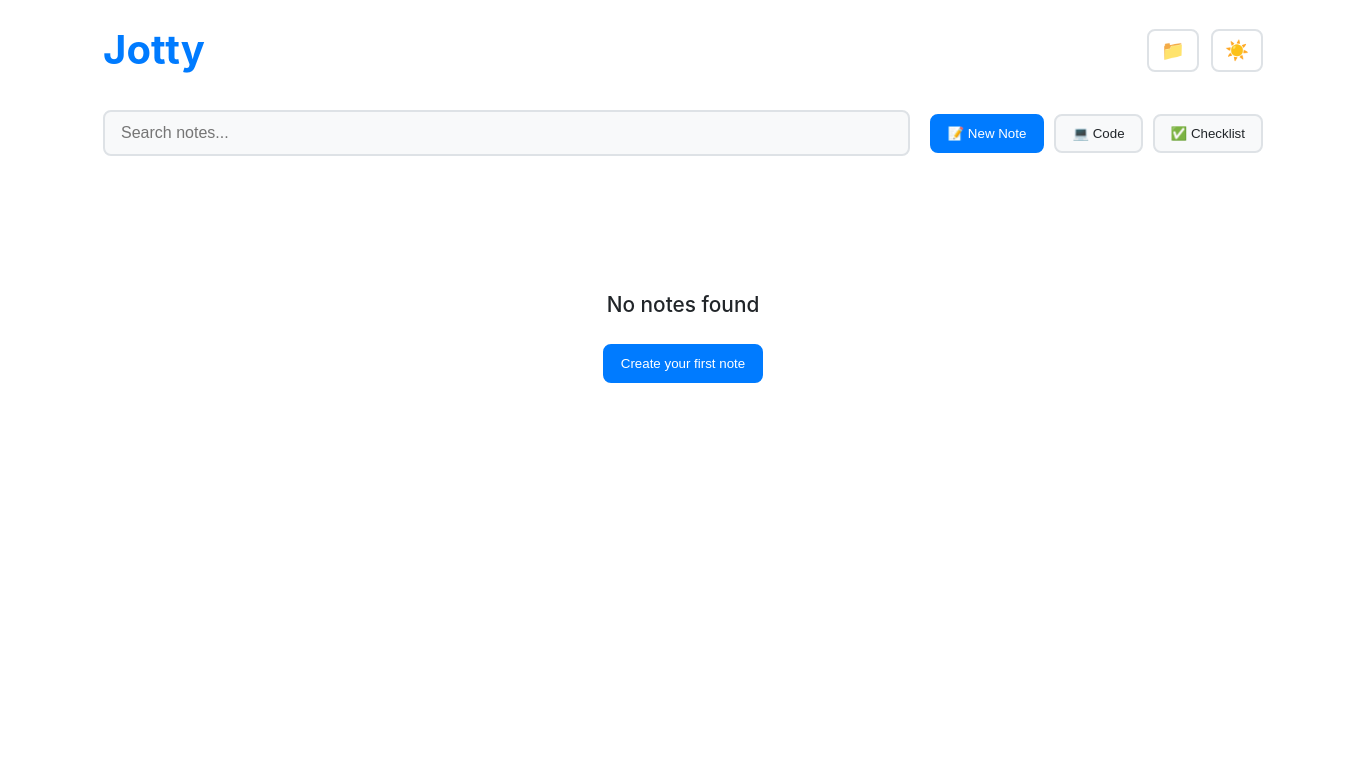
Test: Notes App Integration Tests › should not create empty notes without user input
# Create a new note
Click the button "📝 New Note".
click(987, 133)  # box [930, 114, 1044, 152]
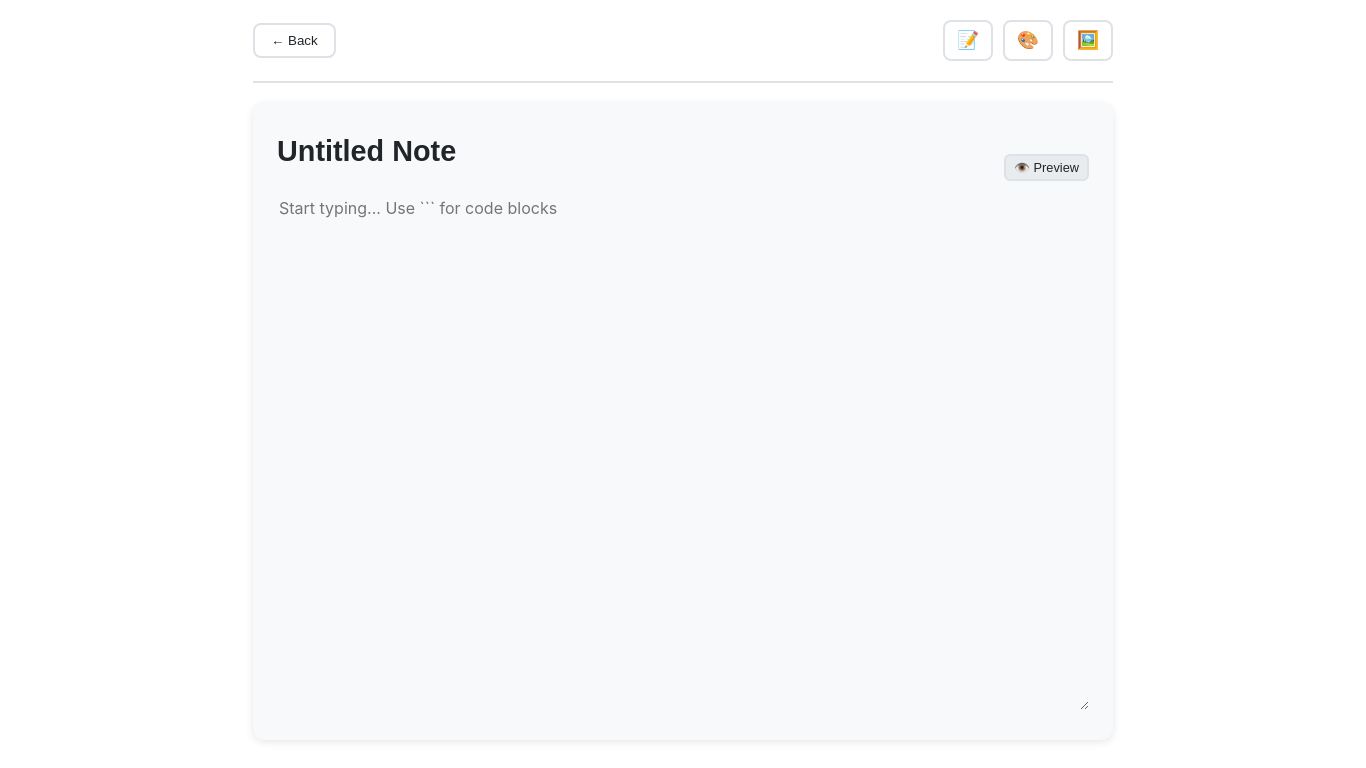
Result: the field showing "Untitled Note" is shown at [277, 127, 1089, 178]
# Go back without making any changes
Click the button "← Back".
click(294, 40)  # box [253, 23, 336, 58]
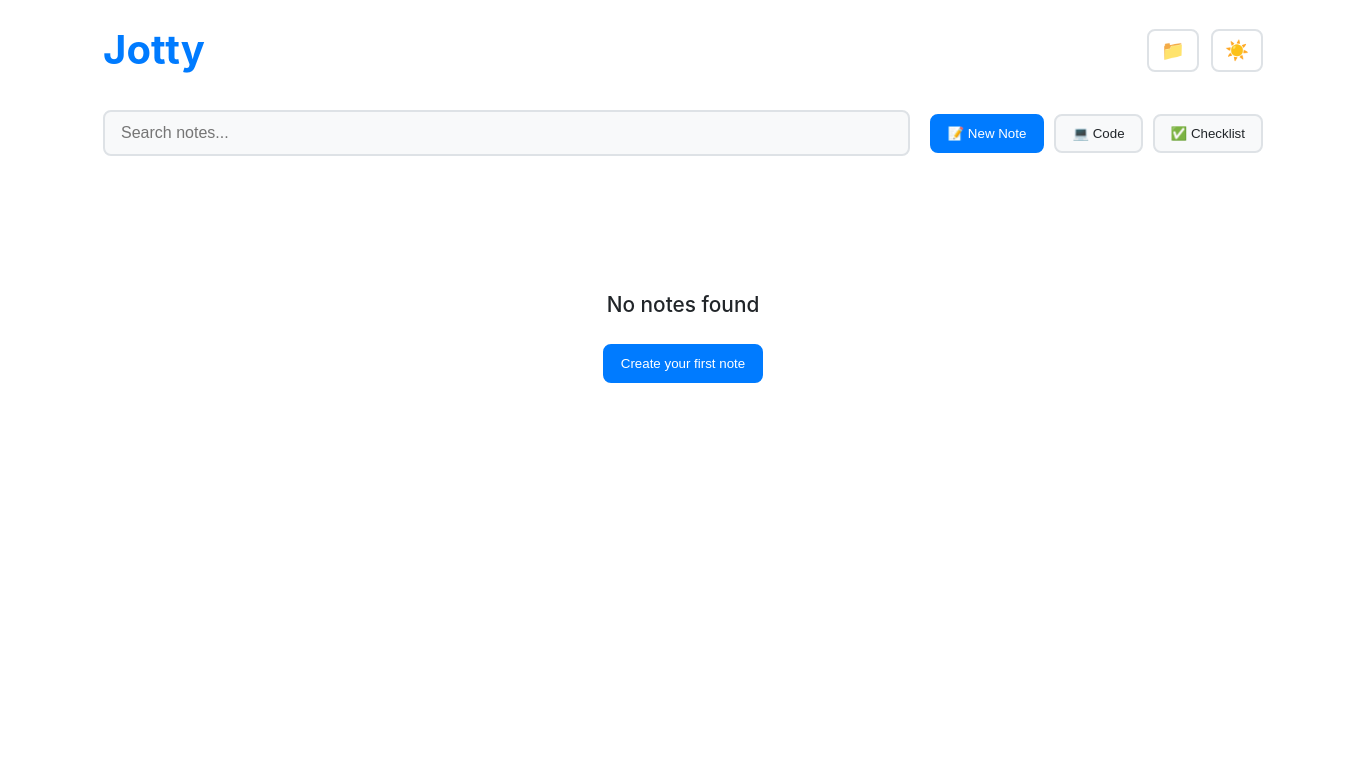
Result: the text "No notes found" is shown at [607, 289, 759, 320]
Result: the button "Create your first note" is shown at [603, 344, 763, 383]
